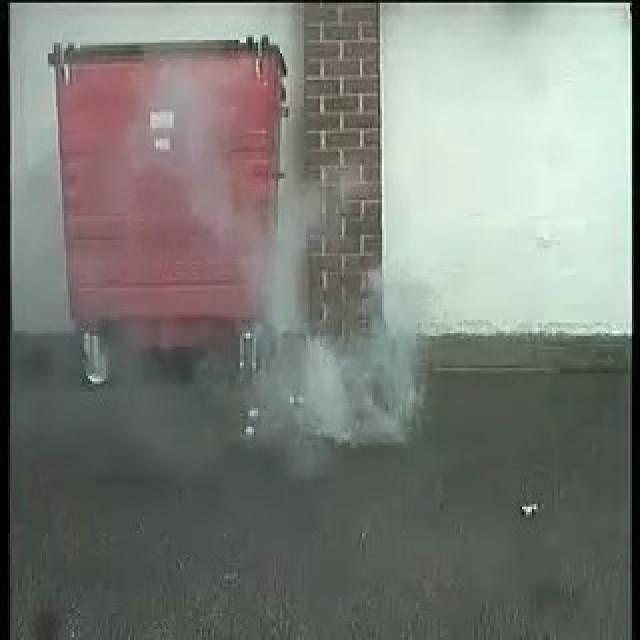smoke: (236, 185, 429, 445)
